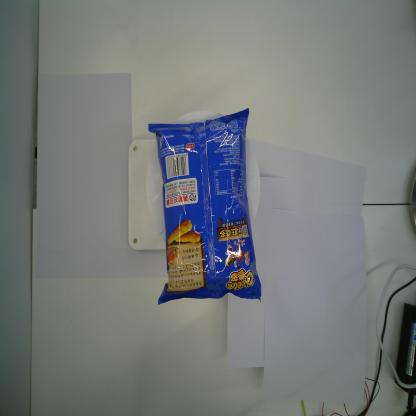Puffed Food: (147, 105, 263, 309)
